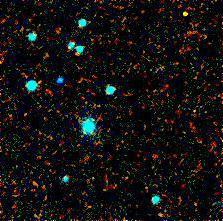star: (170, 0, 200, 29)
